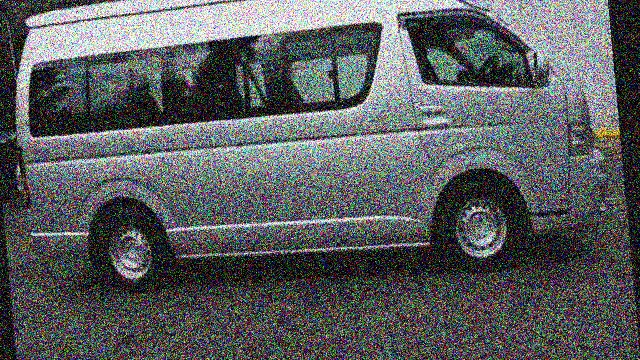van: (4, 0, 631, 306)
